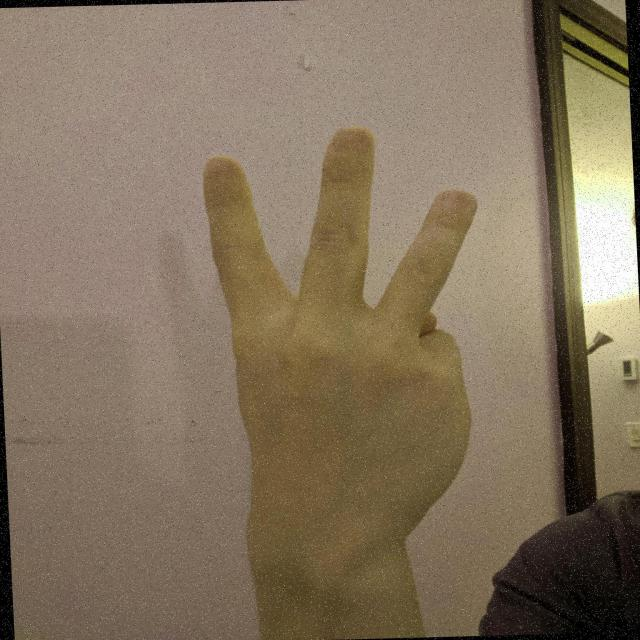W: (190, 115, 502, 554)
